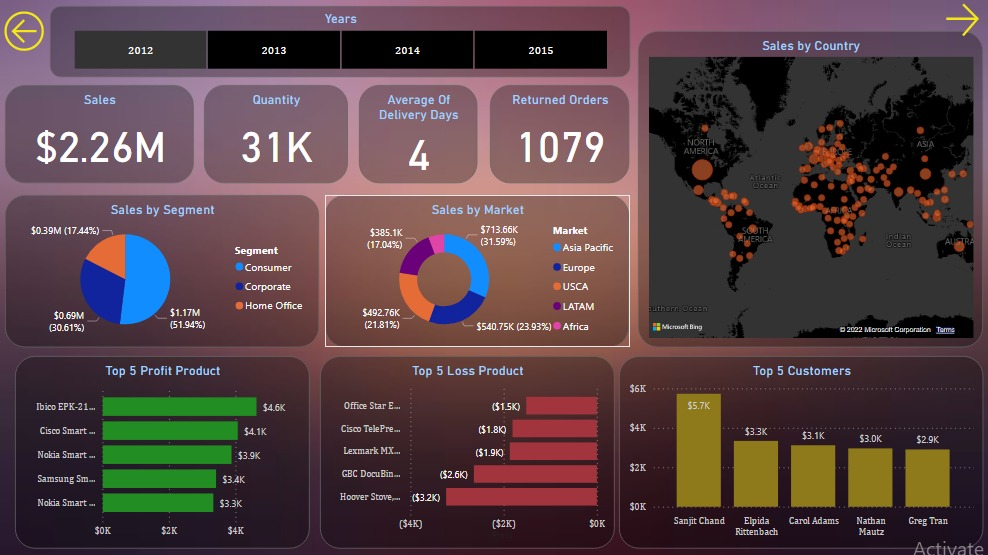

The page's visual inventory and layout, read from the dashboard file:
{"tool":"powerbi","page":{"name":"Page 1","canvas":[1280,720],"ordinal":1},"visuals":[{"type":"card","title":"Sales","fields":{"Values":["Orders.Sales"]},"box":[8.3,111.5,243.6,126.6],"z":0},{"type":"card","title":"Quantity","fields":{"Values":["Orders.Quantity"]},"box":[265.6,111.5,185.8,126.6],"z":1000},{"type":"card","title":"Average Of Delivery Days","fields":{"Values":["Orders.Delivery Days"]},"box":[465.2,111.5,152.8,126.6],"z":2000},{"type":"slicer","title":"Years","fields":{"Values":["Orders.Year"]},"box":[65.3,8.5,749.8,92.3],"z":3000},{"type":"card","title":"Returned Orders","fields":{"Values":["Returns.Return Orders"]},"box":[634.5,111.5,180.3,126.6],"z":4000},{"type":"map","fields":{"Category":["Orders.Country"],"Size":["Orders.Sales"]},"box":[826.5,41.2,445.9,409],"z":5000},{"type":"clusteredBarChart","title":"Top 5 Profit Product","fields":{"Category":["Orders.Product Name"],"Y":["Orders.Profit"]},"box":[21.3,461.5,380.6,248.5],"z":6000},{"type":"clusteredBarChart","title":"Top 5 Loss Product","fields":{"Category":["Orders.Product Name"],"Y":["Orders.Profit"]},"box":[414.7,461.5,380.6,248.5],"z":7000},{"type":"pieChart","fields":{"Category":["Orders.Segment"],"Y":["Orders.Sales"]},"box":[8.3,252.9,406,196.8],"z":8000},{"type":"donutChart","fields":{"Y":["Orders.Sales"],"Category":["Orders.Market"]},"box":[421.8,252.8,393.4,197.4],"z":9000},{"type":"columnChart","title":"Top 5 Customers","fields":{"Category":["Orders.Customer Name"],"Y":["Orders.Profit"]},"box":[800.9,461.5,471.5,248.5],"z":10000},{"type":"actionButton","box":[0,8.5,65.3,65.3],"z":11000},{"type":"actionButton","box":[1217,0,55.4,54],"z":12000}]}

Visuals, with their boxes in screenshot pixels (x1, y1, x2, y2), scaled from the page's 1280x720 canvas onto the 988x555 screenshot:
"Sales" card: (6,86,194,184)
"Quantity" card: (205,86,348,184)
"Average Of Delivery Days" card: (359,86,477,184)
"Years" slicer: (50,7,629,78)
"Returned Orders" card: (490,86,629,184)
map - Orders.Country x Orders.Sales: (638,32,982,347)
"Top 5 Profit Product" clusteredBarChart: (16,356,310,547)
"Top 5 Loss Product" clusteredBarChart: (320,356,614,547)
pieChart - Orders.Segment x Orders.Sales: (6,195,320,347)
donutChart - Orders.Sales x Orders.Market: (326,195,629,347)
"Top 5 Customers" columnChart: (618,356,982,547)
actionButton: (0,7,50,57)
actionButton: (939,0,982,42)
